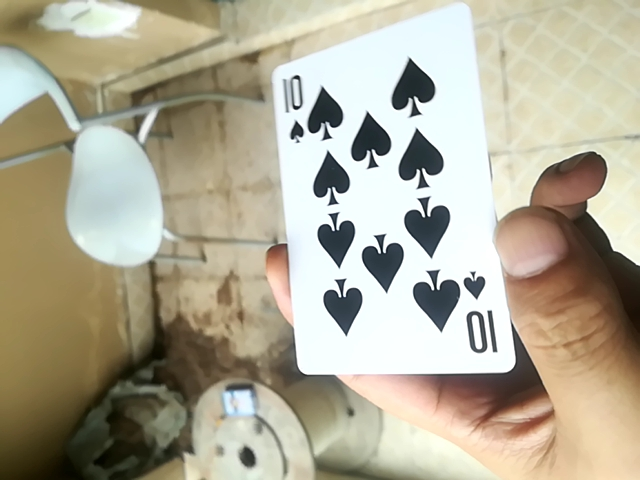ht 10: (271, 7, 517, 384)
